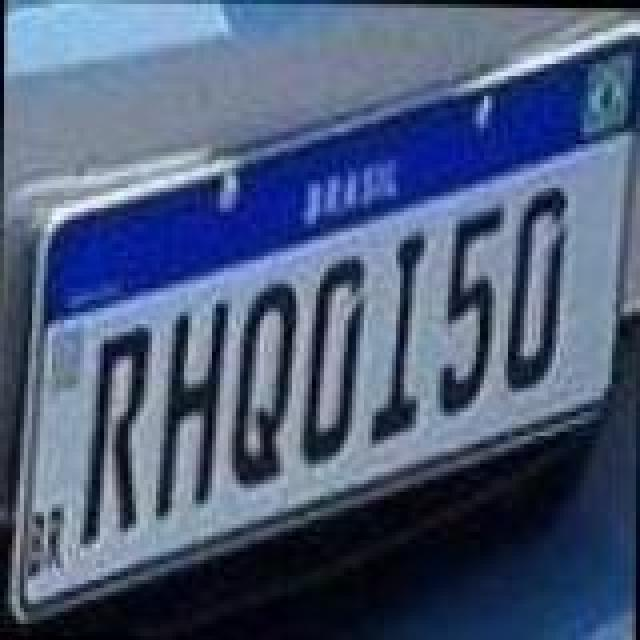5: (436, 198, 508, 418)
D: (302, 256, 370, 468), (502, 184, 570, 392)
H: (150, 304, 230, 528)
I: (370, 232, 430, 448)
Q: (224, 280, 300, 492)
R: (80, 324, 156, 548)
